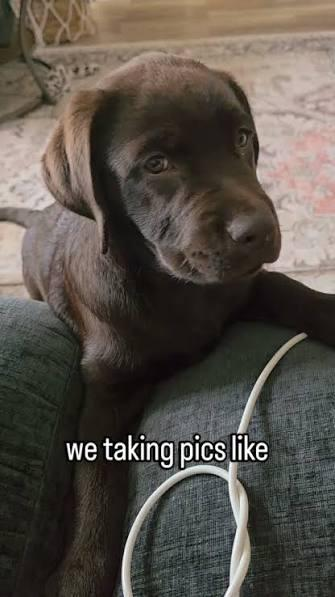puppy-dog: (1, 52, 335, 597)
